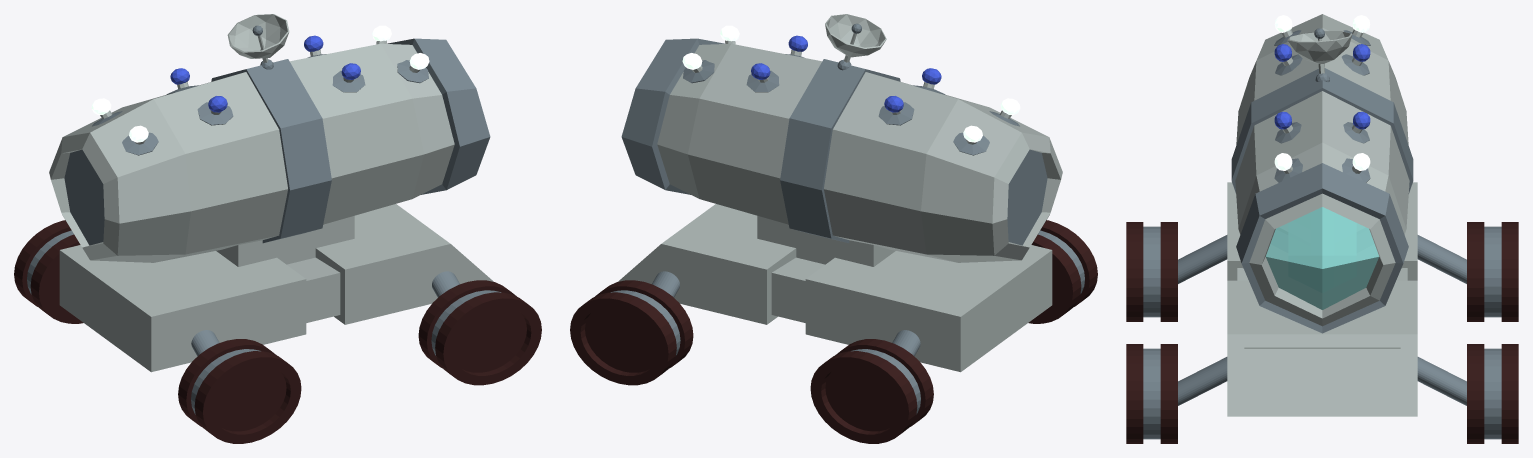
File: Rover_Combo 2.fbx
The picture shows the model from 3 angles, left to right: view 1: azimuth 30°, elevation 25°; view 2: azimuth 150°, elevation 25°; view 3: azimuth 270°, elevation 25°; orthographic projection. The views are drawn at different scales.
Visible parts, largest first — view 1: Sattlelight dish.002; view 2: Sattlelight dish.002; view 3: Sattlelight dish.002.
Part boxes in pixels (x1,y1,x2,y2): Sattlelight dish.002: (14, 14, 541, 443); Sattlelight dish.002: (570, 14, 1097, 443); Sattlelight dish.002: (1126, 14, 1518, 443).
Size of the model in its own units: 356 by 288 by 303.
